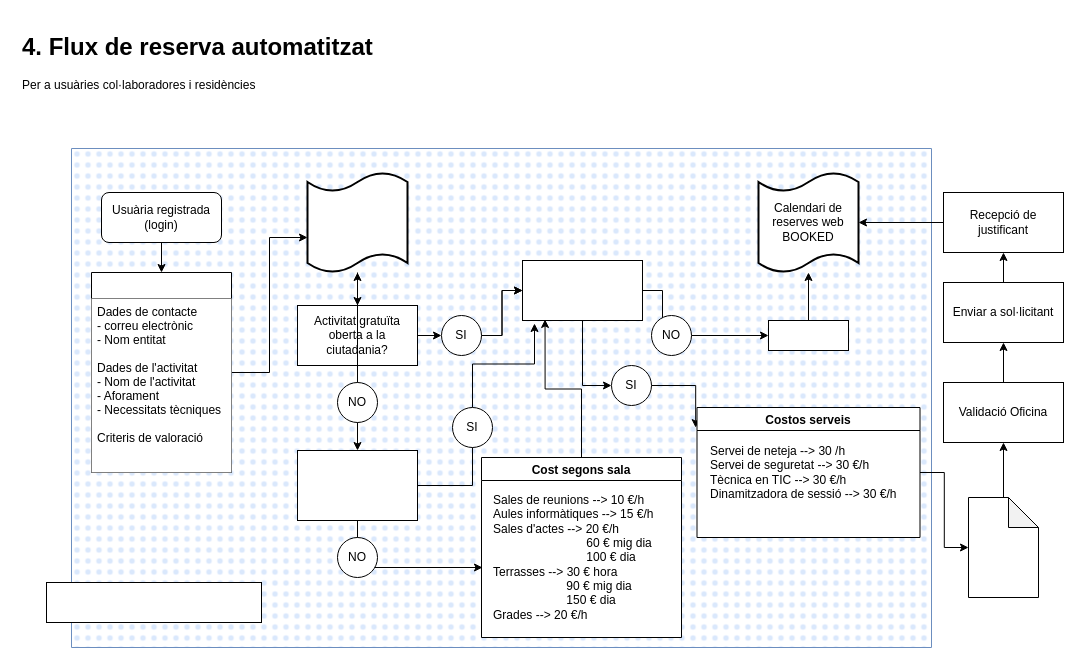
Some shapes in this 1081 by 665 pixel diagram are drawn without their labels. Each missing label, with the box of its shape:
Accions automatitzaades a la web: (46, 582, 262, 622)
Activitat gratuïta tancada adreçada als membres de l'organització: (296, 450, 418, 520)
Calendari de reserves web NOT AVAILABLE: (306, 171, 408, 273)
Gratuïtat: (768, 320, 848, 350)
Pressupost de cessió: (968, 496, 1038, 598)
Reserva web: (90, 272, 232, 472)
Serveis associats?: (522, 260, 642, 320)
